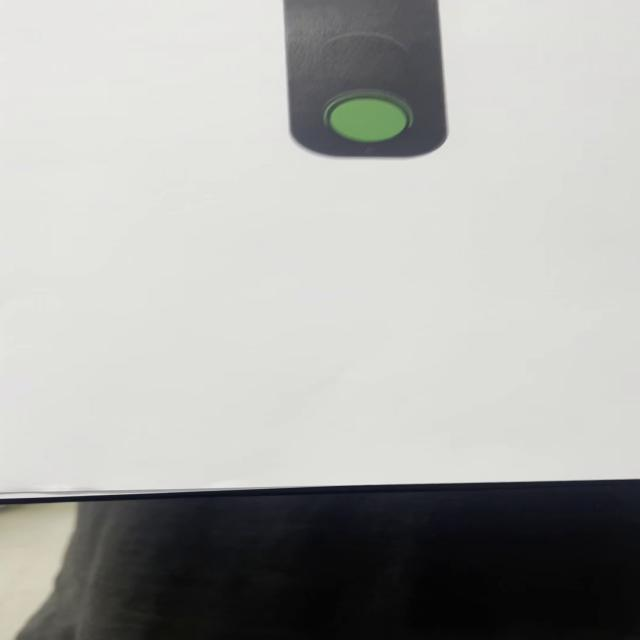green: (283, 1, 459, 162)
